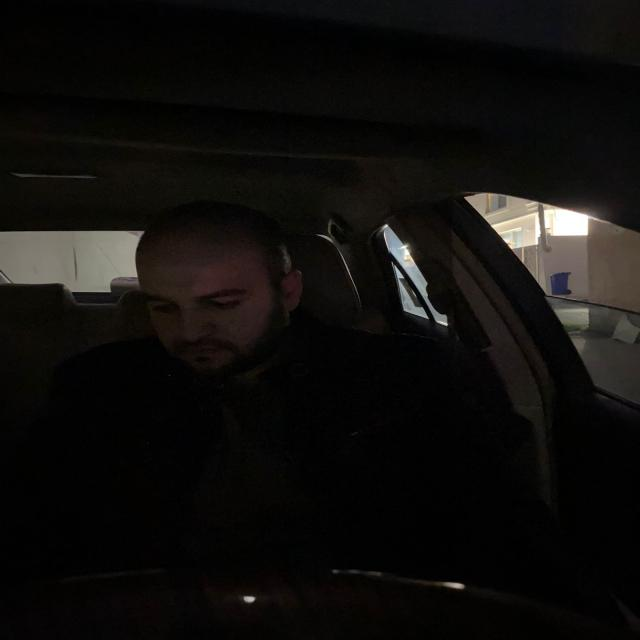drowsy: (126, 238, 304, 374)
